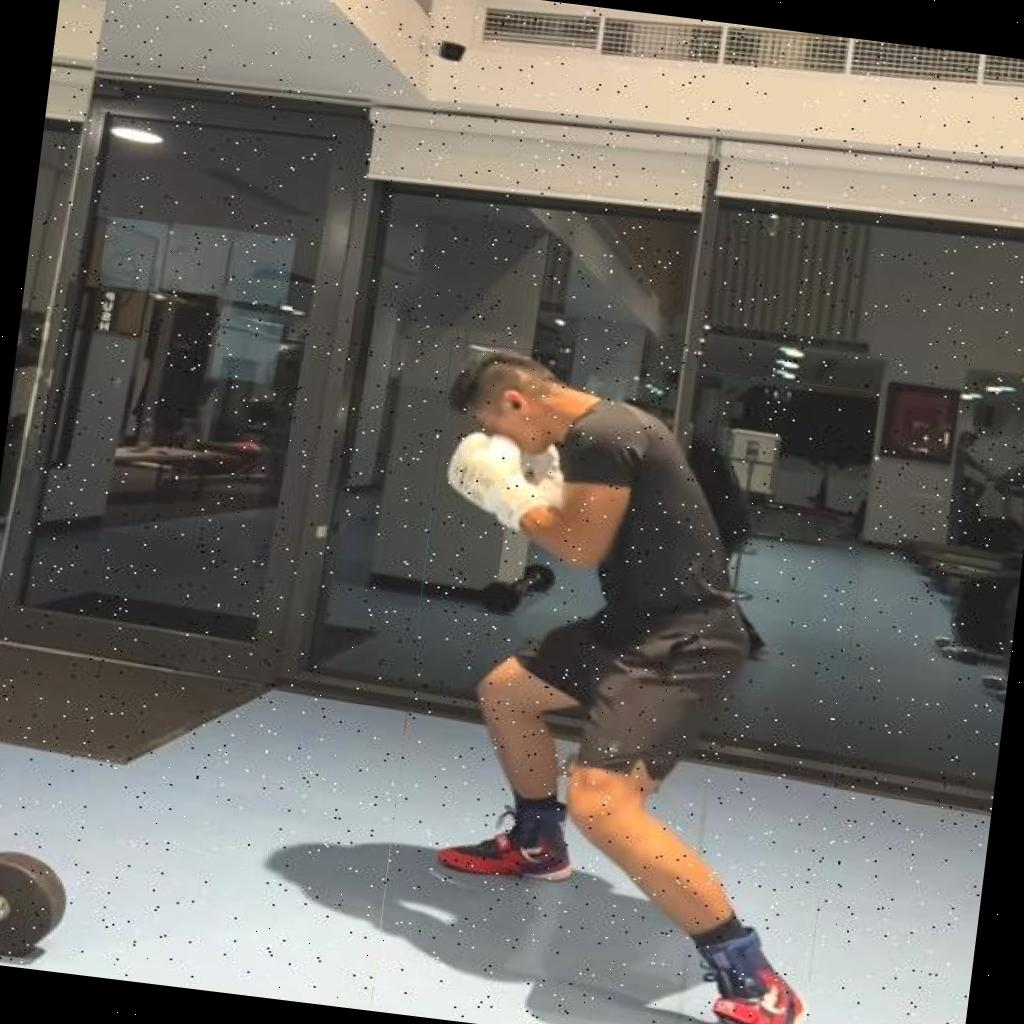no punch: (370, 339, 880, 1024)
